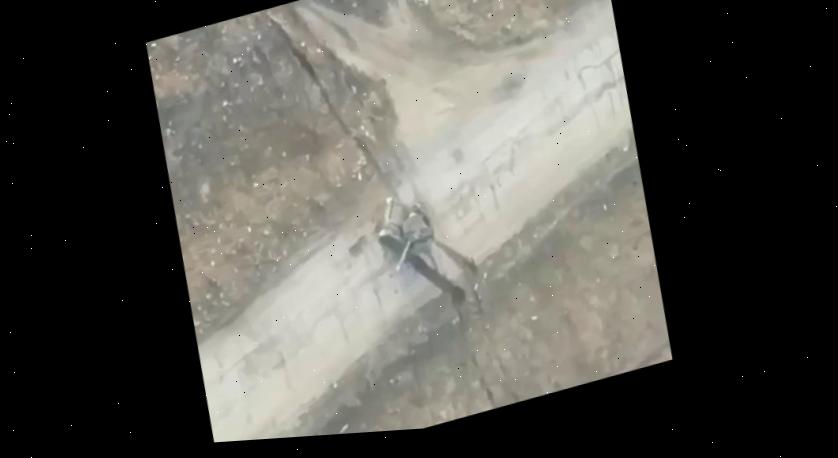tank: (367, 185, 443, 276)
